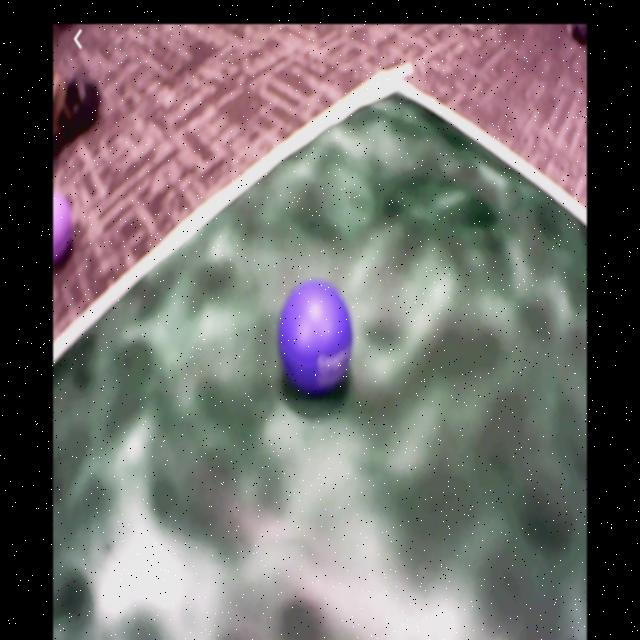ball: (277, 283, 354, 388), (55, 188, 77, 265)
